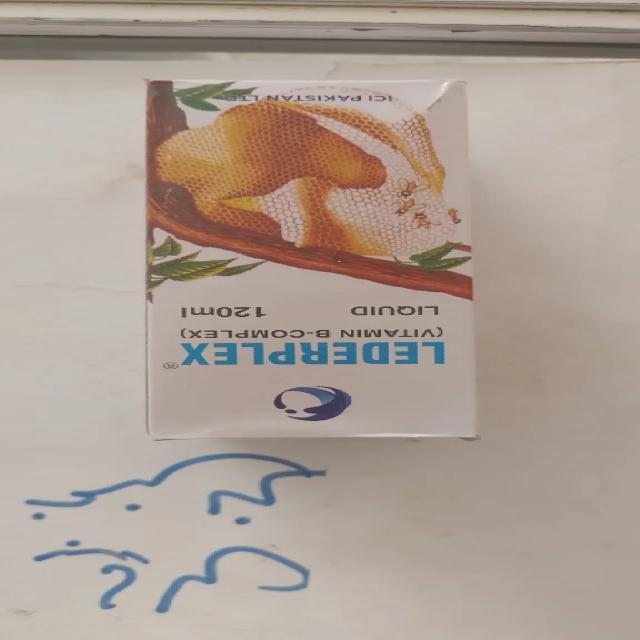drug-name: (174, 340, 448, 366)
